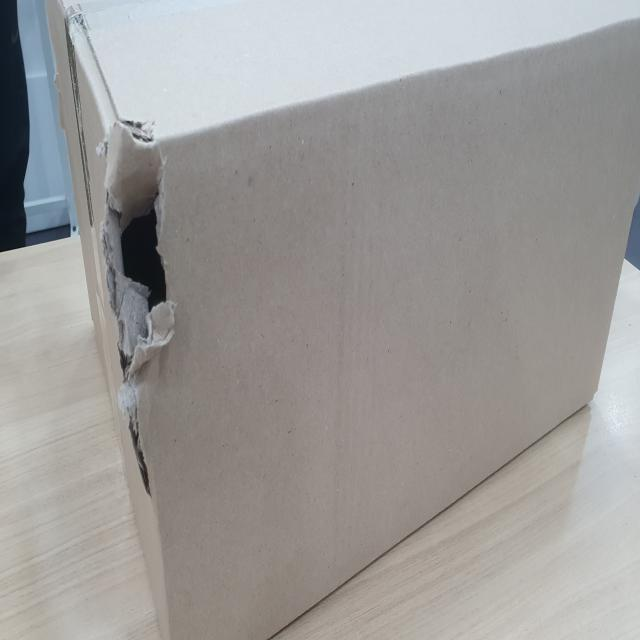hole: (96, 152, 182, 448)
